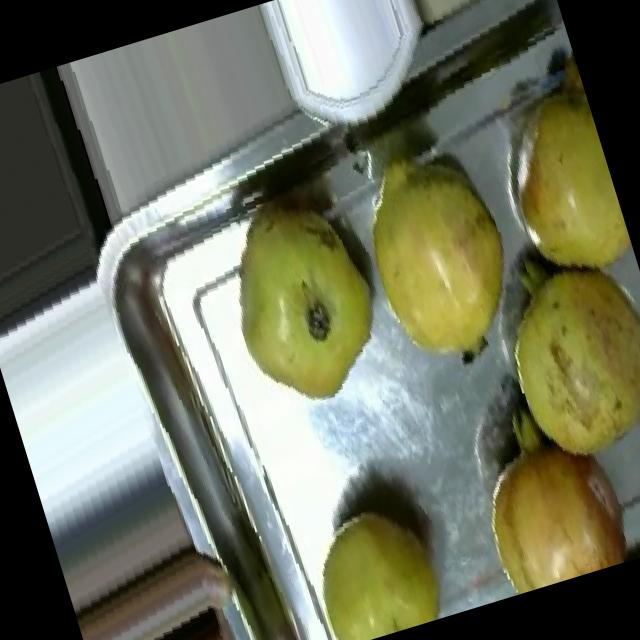fruit: (327, 111, 552, 402), (193, 173, 411, 439), (467, 219, 640, 493), (474, 74, 640, 311), (451, 401, 640, 600), (286, 479, 459, 640), (63, 526, 268, 640)
